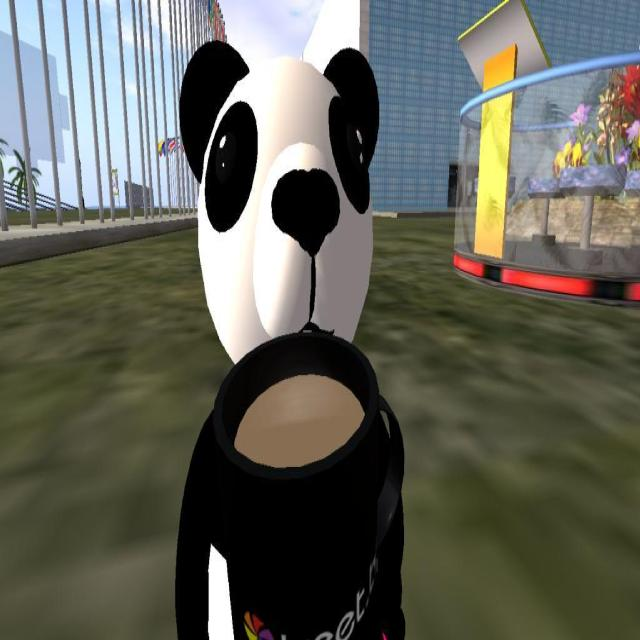panda: (172, 38, 383, 364)
